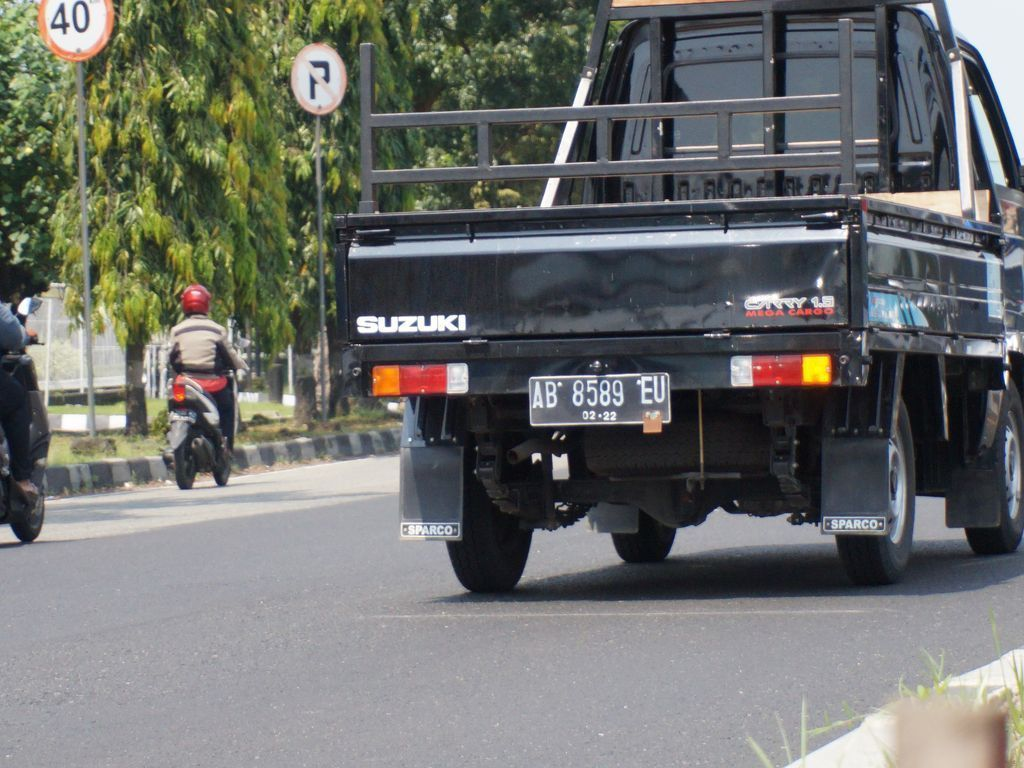plate: (531, 376, 668, 420)
